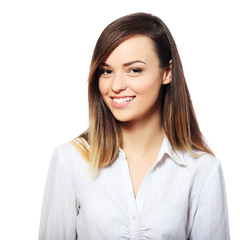young: (90, 14, 174, 146)
